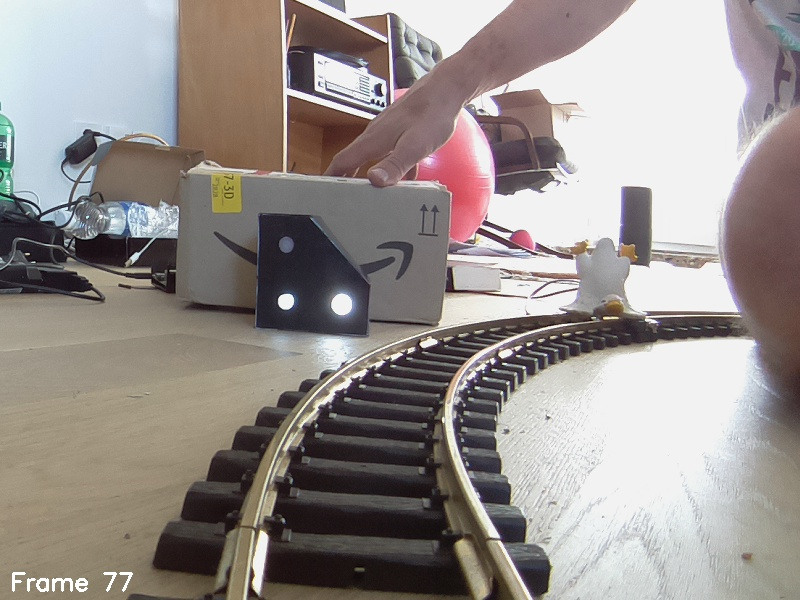Halt: (255, 212, 370, 339)
